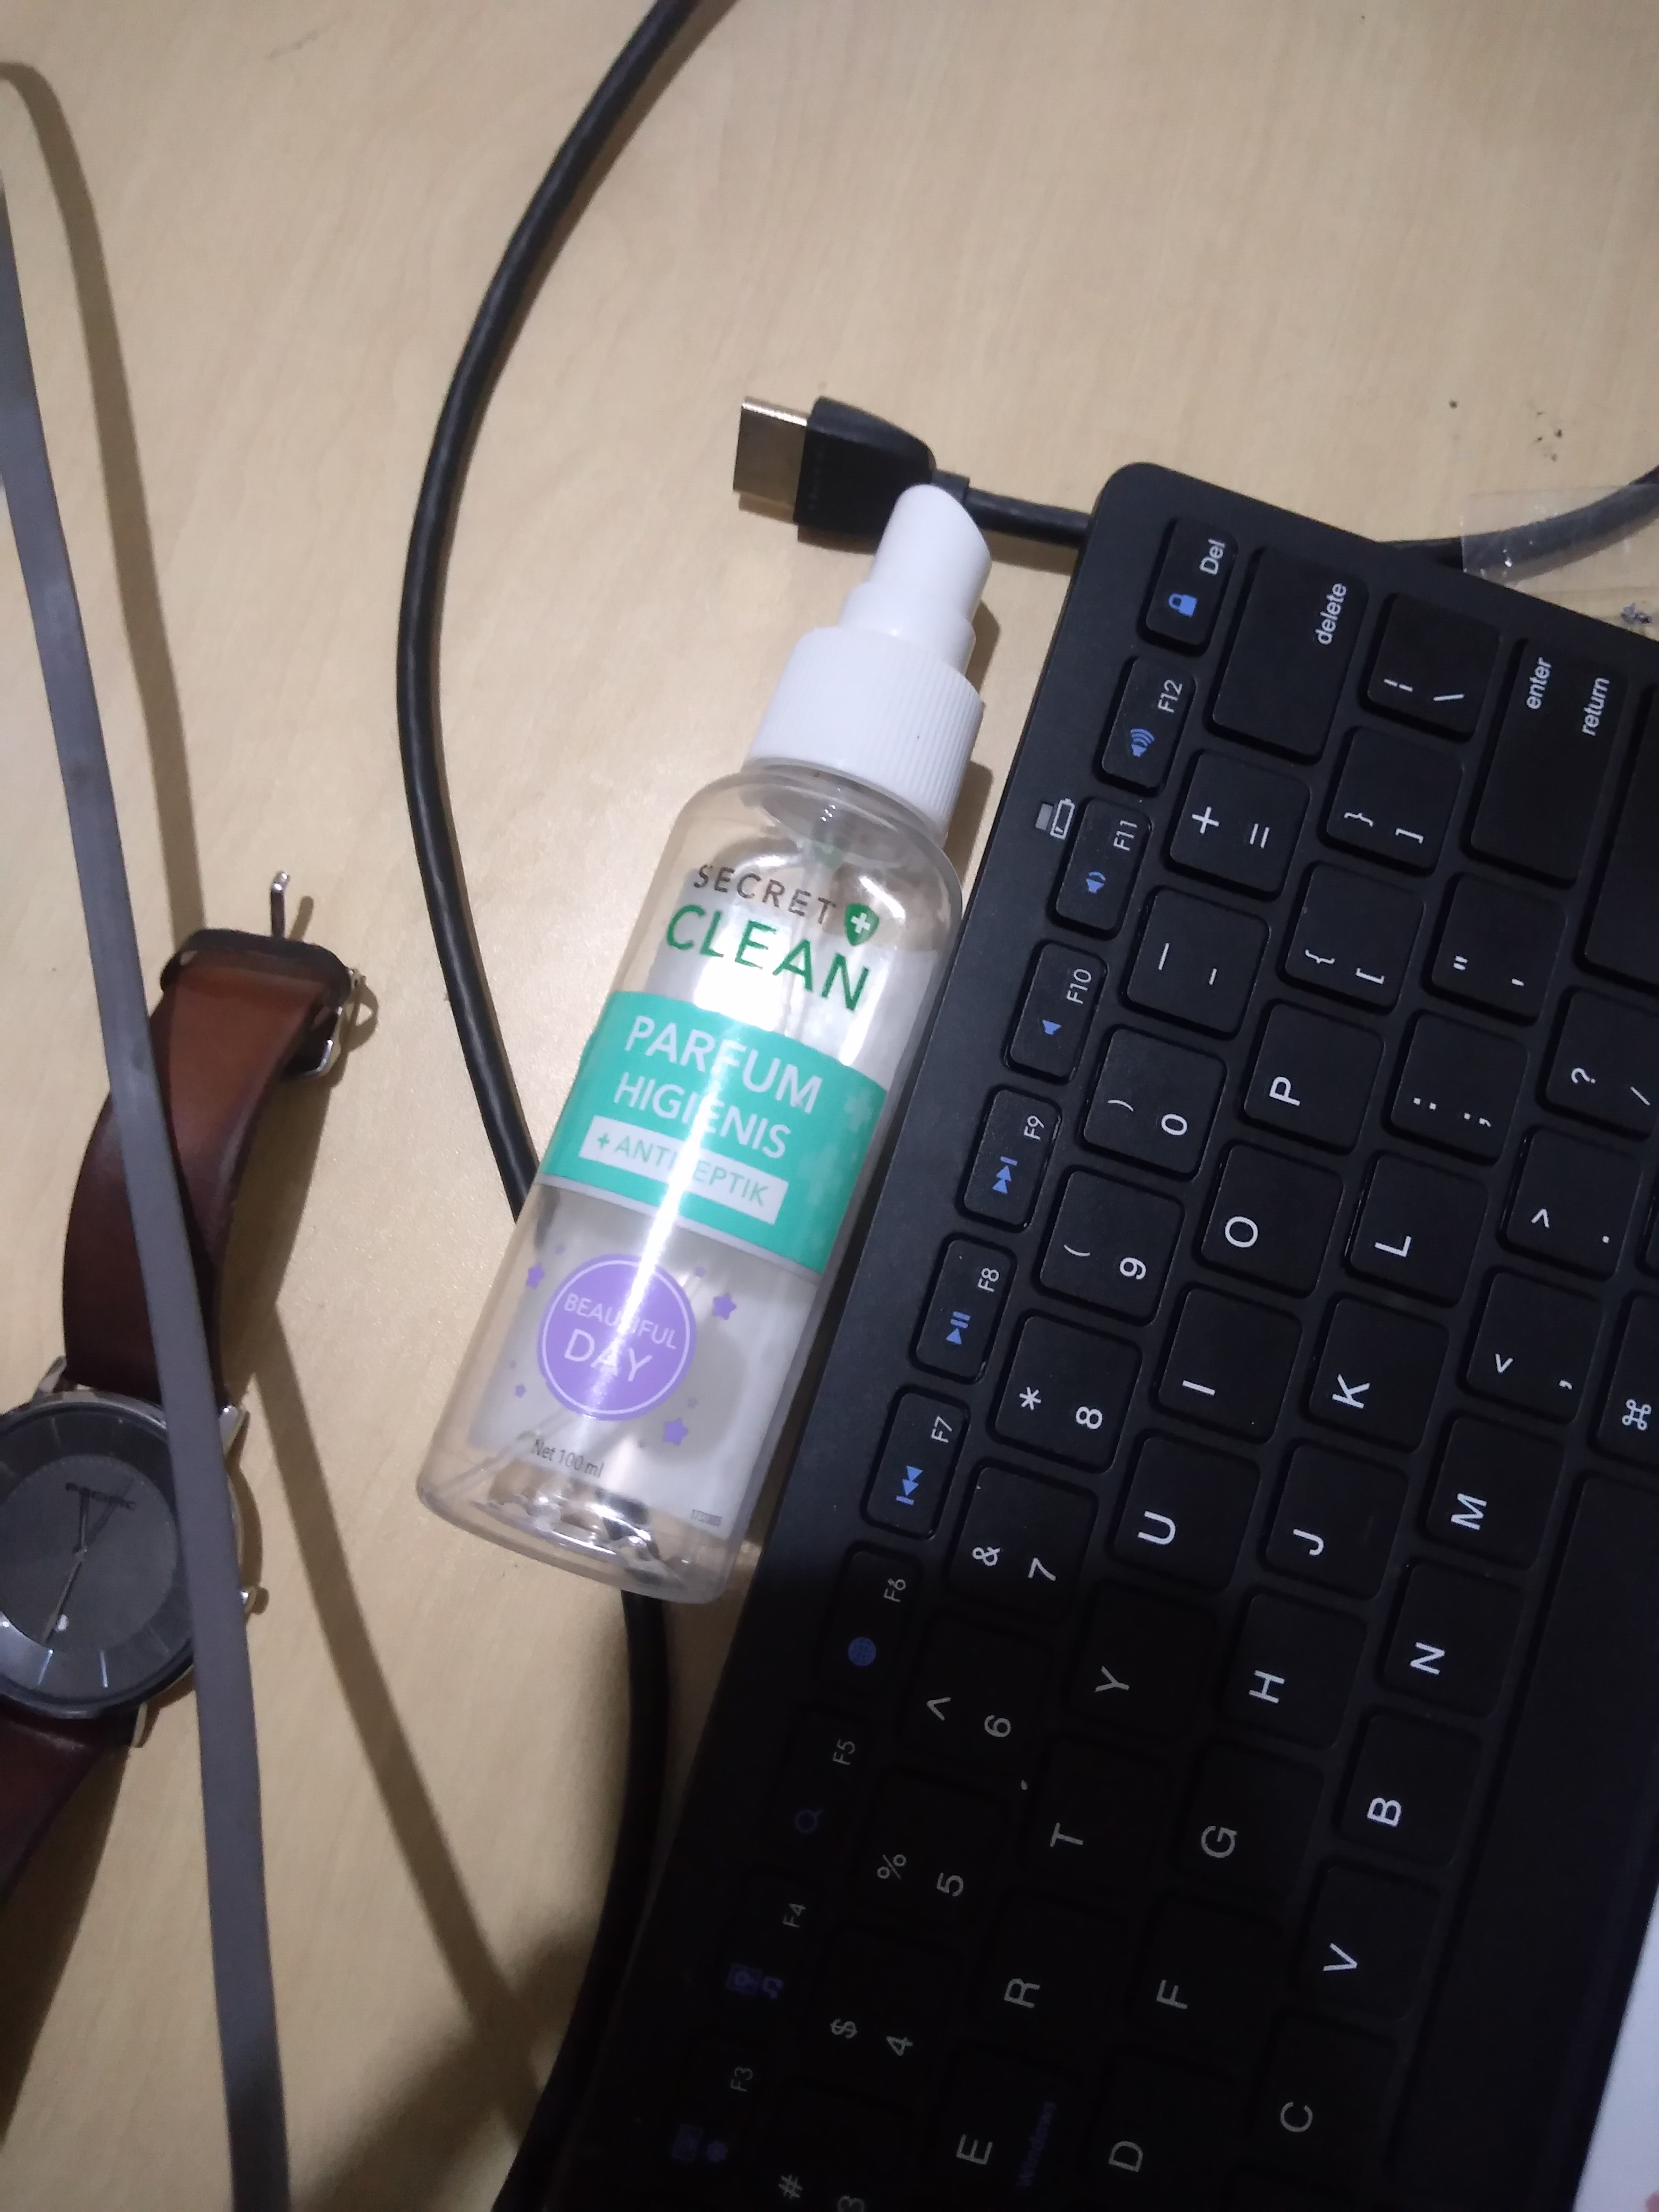hand sanitizer: (413, 462, 1025, 1648)
